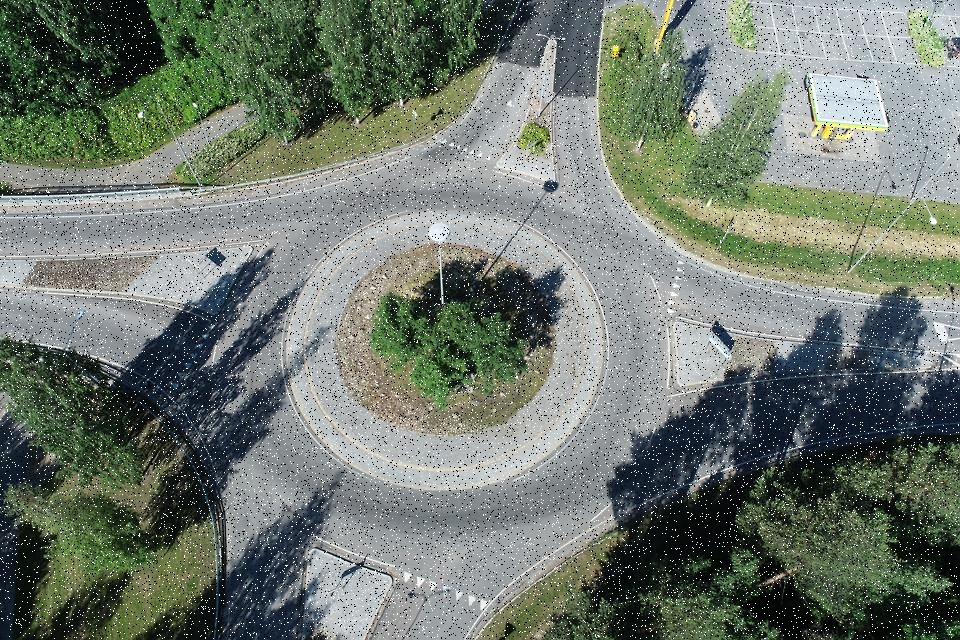roundabout: (142, 124, 737, 621)
